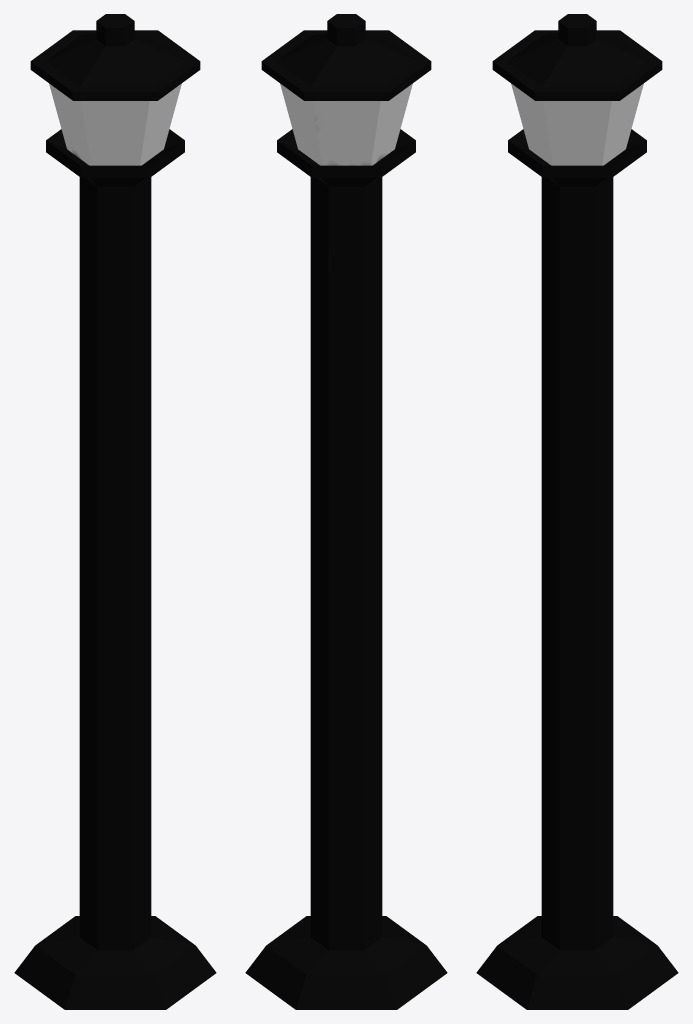
The model's file is Lamp.fbx.
The picture shows the model from 3 angles, left to right: view 1: azimuth 30°, elevation 25°; view 2: azimuth 150°, elevation 25°; view 3: azimuth 270°, elevation 25°; orthographic projection.
Parts seen in each view (by area): view 1: Cylinder; view 2: Cylinder; view 3: Cylinder.
Part boxes in pixels (box(x1,y1,x2,y2)): Cylinder: box(14, 14, 216, 1009); Cylinder: box(245, 14, 447, 1009); Cylinder: box(476, 14, 678, 1009).
Size of the model in its own units: 173 by 1038 by 200.
Materials: 1 (1 with a texture image).
